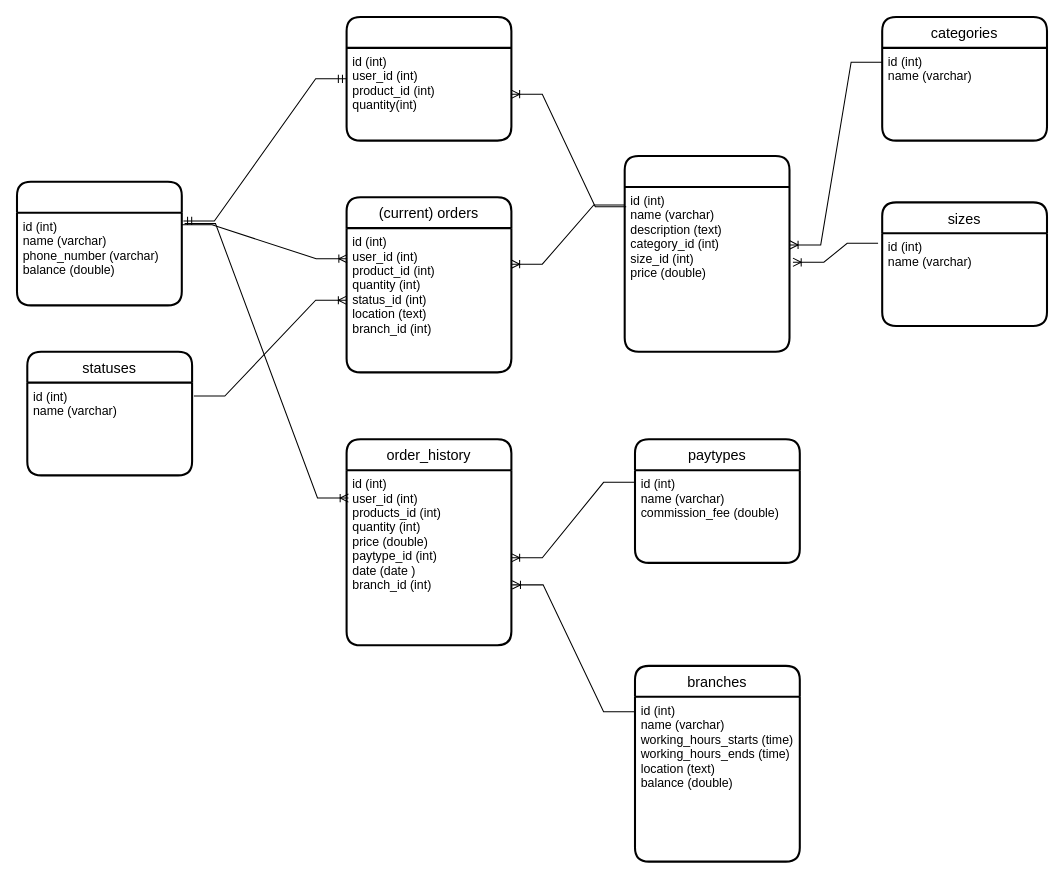
Some shapes in this 1064 by 879 pixel diagram are drawn without their labels. The shapes that lost their labels are listed below. From the top down, each one's box as (x1, y1, x2, y2) in pixels, then its label:
(345, 15, 512, 141): carts
(15, 180, 182, 306): users
(623, 154, 790, 352): products
